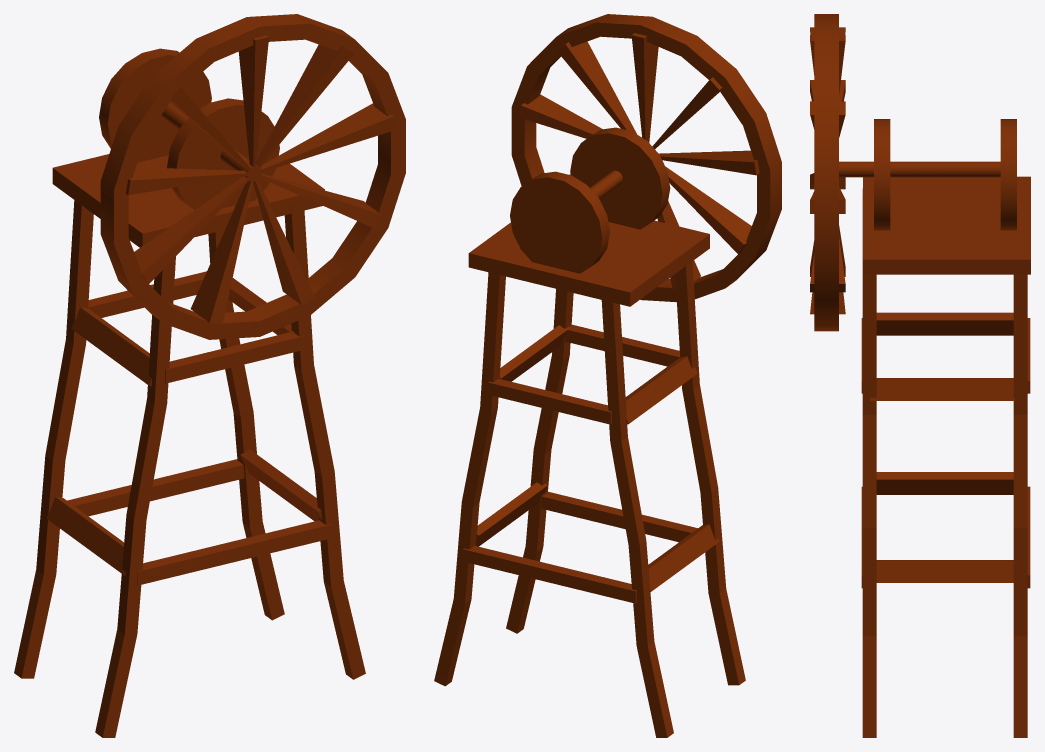
The model's file is MOLINO.FBX.
3 renders of one model, left to right at view 1: azimuth 30°, elevation 25°; view 2: azimuth 150°, elevation 25°; view 3: azimuth 270°, elevation 25°, orthographic. The views are drawn at different scales.
Parts seen in each view (by area): view 1: Cylinder003, Box001, Box002, Box003, Box005, Cylinder001, Box004, Cylinder002, Box010, Box011, Box012, Box007 (+4 smaller); view 2: Cylinder003, Box005, Box001, Cylinder002, Box002, Box004, Cylinder001, Box003, Box011, Box010, Box013, Box007 (+4 smaller); view 3: Box005, Cylinder003, Box003, Box004, Box007, Box009, Box006, Box008, Cylinder001, Cylinder002, Box011.
Part boxes in pixels (x1,y1,x2,y2): Cylinder003: (100,14,405,339); Box001: (14,200,93,678); Box002: (95,230,175,737); Box003: (284,196,365,679); Box005: (52,154,324,247); Cylinder001: (167,98,279,209); Box004: (208,230,284,620); Cylinder002: (99,48,211,162); Box010: (137,520,332,585); Box011: (67,459,244,516); Box012: (165,332,303,383); Box007: (71,307,151,386); Cylinder003: (511,14,781,302); Box005: (468,220,709,306); Box001: (601,300,673,737); Cylinder002: (510,171,609,273); Box002: (675,261,745,685); Box004: (434,272,505,686); Cylinder001: (570,127,670,229); Box003: (506,289,573,633); Box011: (463,546,636,603); Box010: (541,491,697,542); Box013: (488,378,611,424); Box007: (625,356,697,424); Box005: (863,176,1030,274); Cylinder003: (810,14,1000,331); Box003: (862,248,876,737); Box004: (1013,274,1027,737); Box007: (876,312,1013,335); Box009: (870,378,1014,400); Box006: (876,472,1013,494); Box008: (876,560,1013,582); Cylinder001: (874,119,890,230); Cylinder002: (1000,119,1016,230); Box011: (1027,486,1030,588).
Size of the model in its own units: 93.64 by 215 by 65.9.
